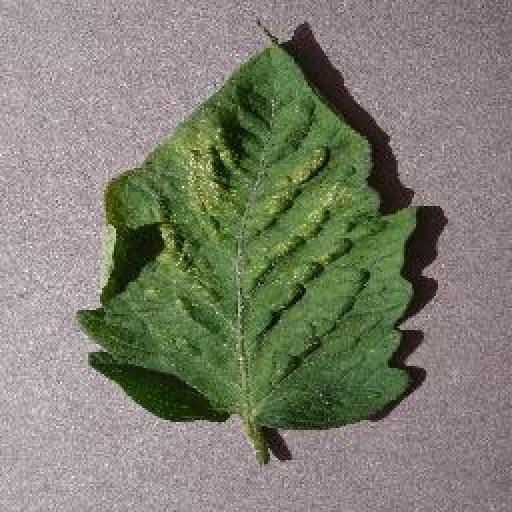Spider Mites: (77, 39, 419, 428)
